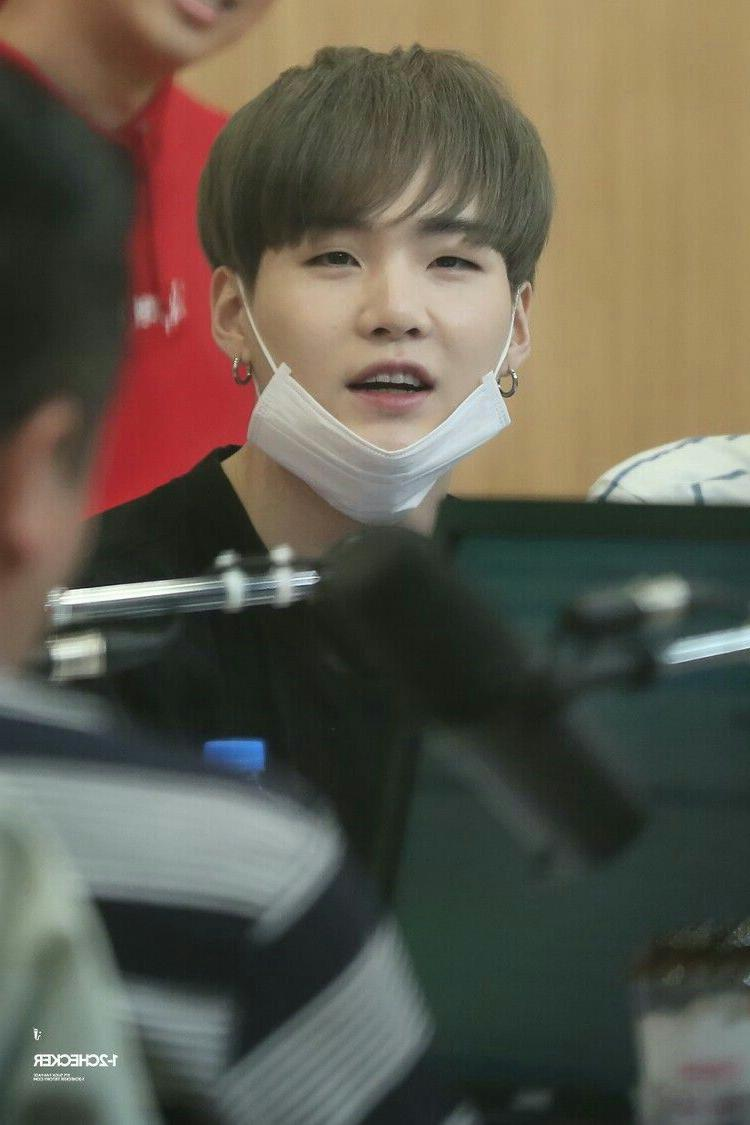mask_weared_incorrect: (245, 233, 500, 501)
